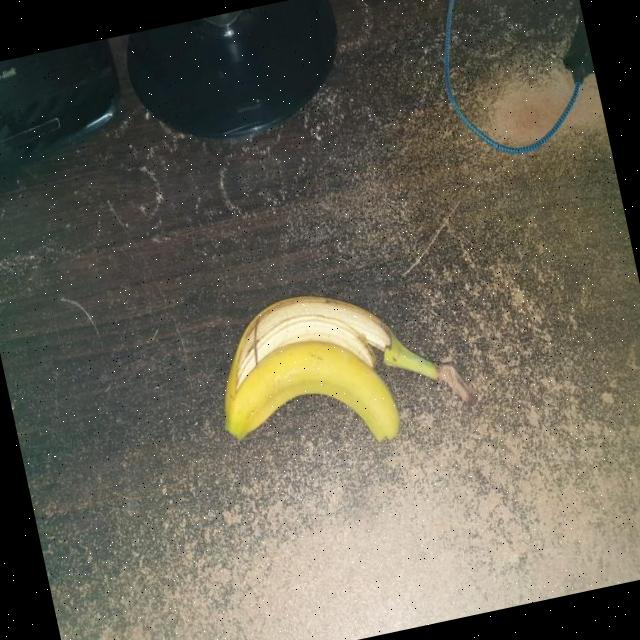banana-peel: (200, 261, 482, 473), (208, 322, 404, 474)
